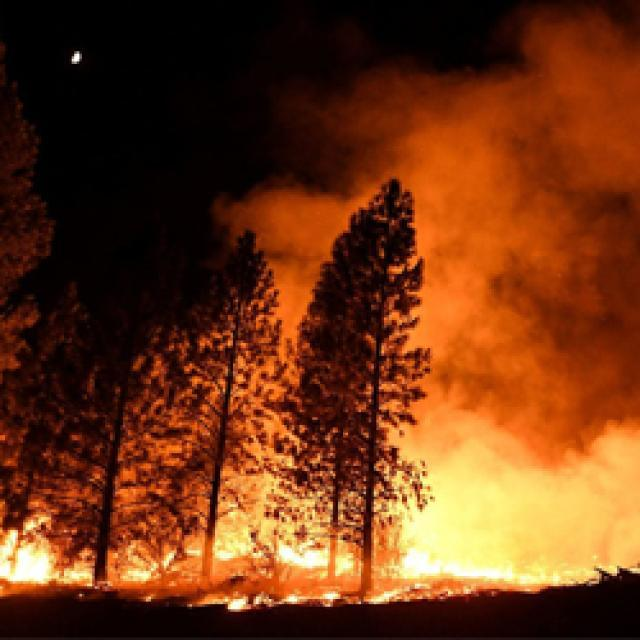Fire: (245, 494, 355, 582), (0, 499, 86, 591), (112, 538, 174, 589), (196, 586, 265, 612), (186, 544, 236, 564)
Smoke: (409, 192, 640, 581), (307, 0, 640, 197), (224, 178, 350, 344)
